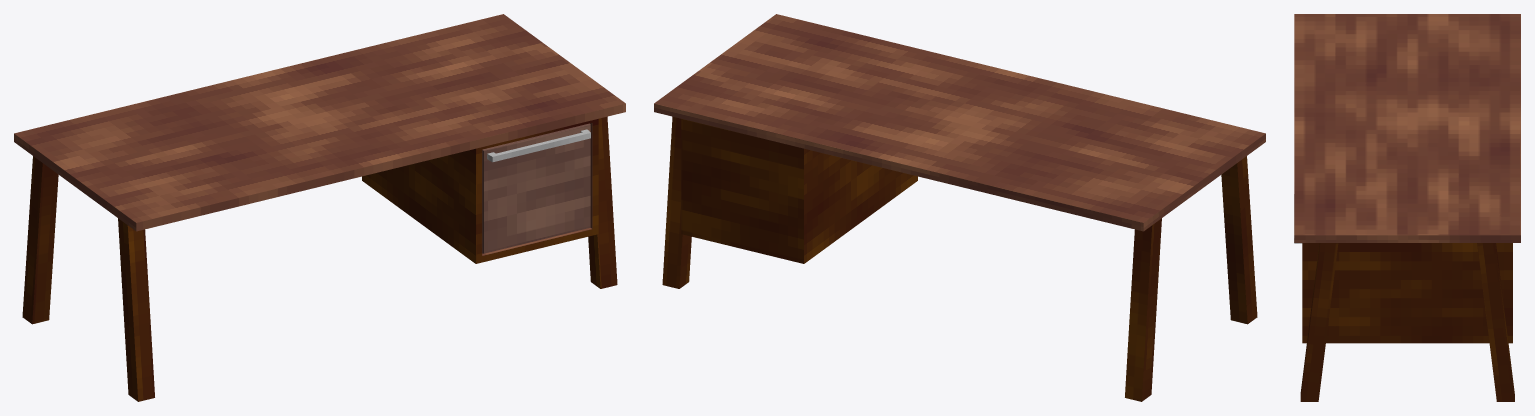
File: desk.fbx
3 views of the same model, side by side, from view 1: azimuth 30°, elevation 25°; view 2: azimuth 150°, elevation 25°; view 3: azimuth 270°, elevation 25° (orthographic). The views are drawn at different scales.
Parts seen in each view (by area): view 1: desk; view 2: desk; view 3: desk.
Part boxes in pixels (left/top/right/bottom): desk: left=14, top=14, right=625, bottom=401; desk: left=654, top=14, right=1265, bottom=401; desk: left=1294, top=14, right=1520, bottom=401.
Bounding box in the file's own units: 235 × 83.92 × 102.
1 material, 1 textured.
